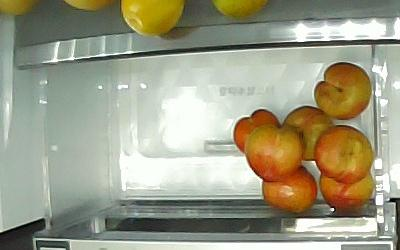prune: (312, 123, 373, 184), (242, 121, 303, 181), (312, 61, 371, 120), (282, 104, 335, 161), (260, 163, 318, 213), (232, 108, 282, 155), (318, 169, 373, 210)
